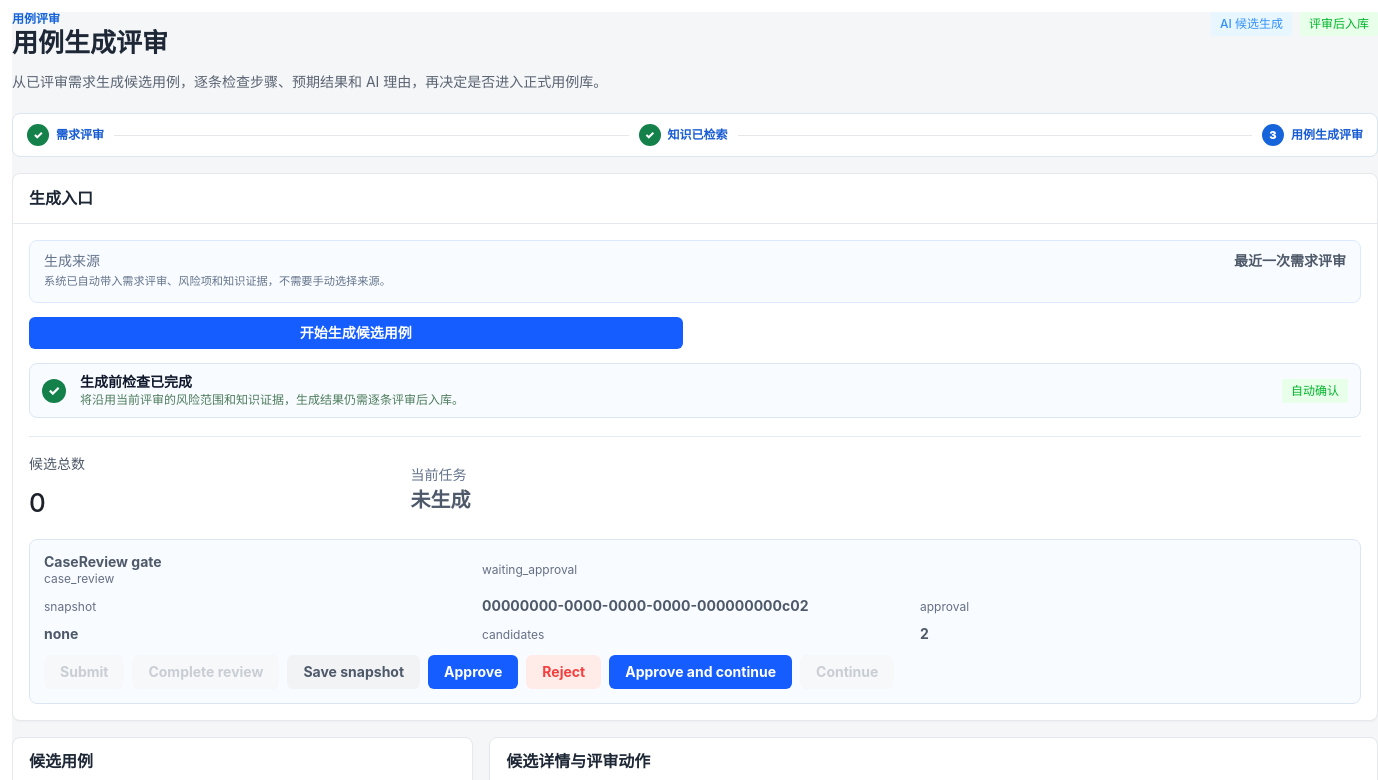
Scenario: CaseGenerationReviewView › renders the persisted CaseReview gate and advances it with project-scoped actions
This screenshot has width=1378, height=780.
Expected: the element with test id "case-review-workflow-panel" is shown, [29,539,1361,704]
Click the button with test id "case-review-approve-continue".
click(701, 672)  # box [609,654,792,688]
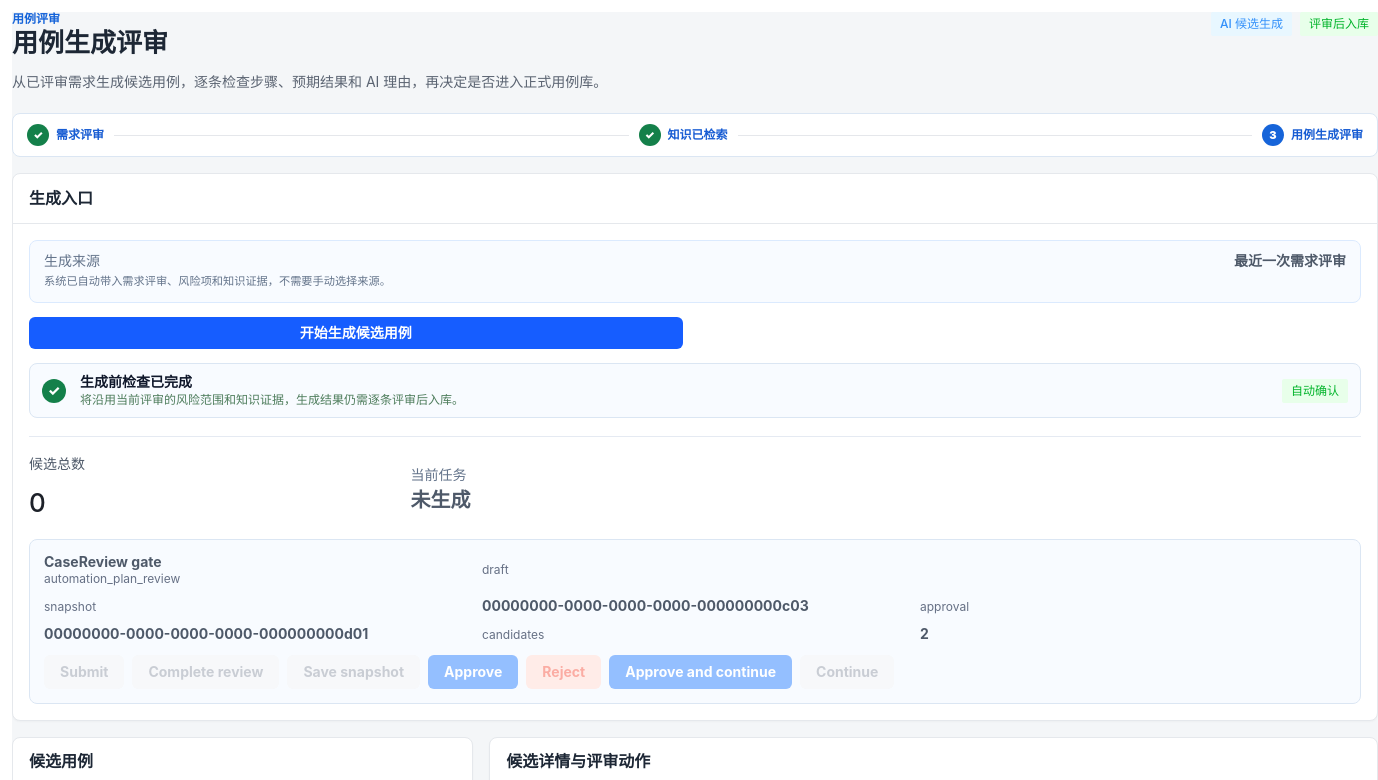
Result: the text "automation_plan_review" is shown at [44,571,180,586]
